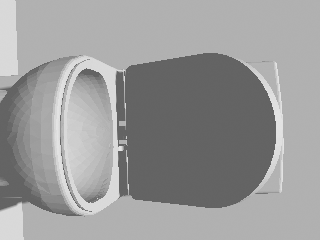lid_1: (125, 54, 282, 207)
